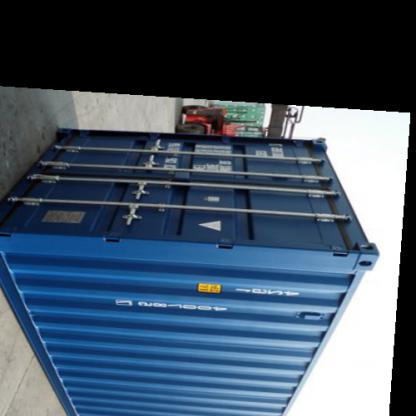Damage: (330, 186, 356, 252)
